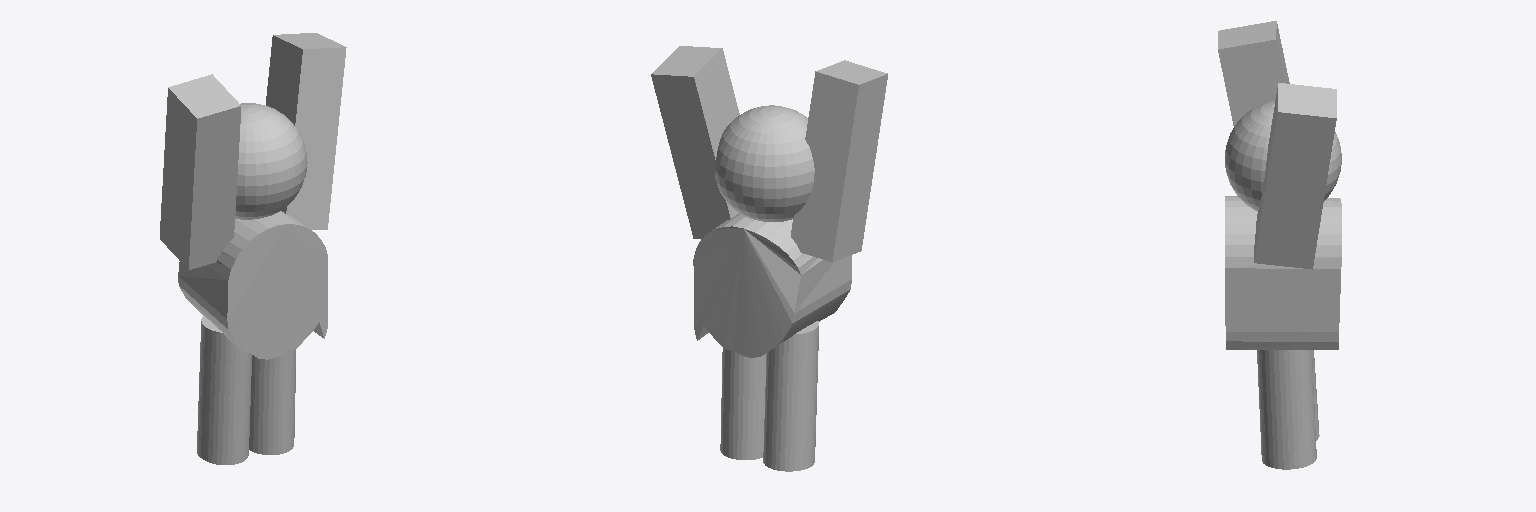
The model's file is Figurine177.obj.
The picture shows the model from 3 angles: view 1: azimuth 30°, elevation 25°; view 2: azimuth 150°, elevation 25°; view 3: azimuth 270°, elevation 25°; orthographic projection.
Visible parts, largest first — view 1: Cylinder; view 2: Cylinder; view 3: Cylinder.
Part boxes in pixels (x1,y1,x2,y2): Cylinder: (160,33,346,464); Cylinder: (651,46,887,471); Cylinder: (1218,21,1341,469).
Bounding box in the file's own units: 3.52 × 7.35 × 2.11.